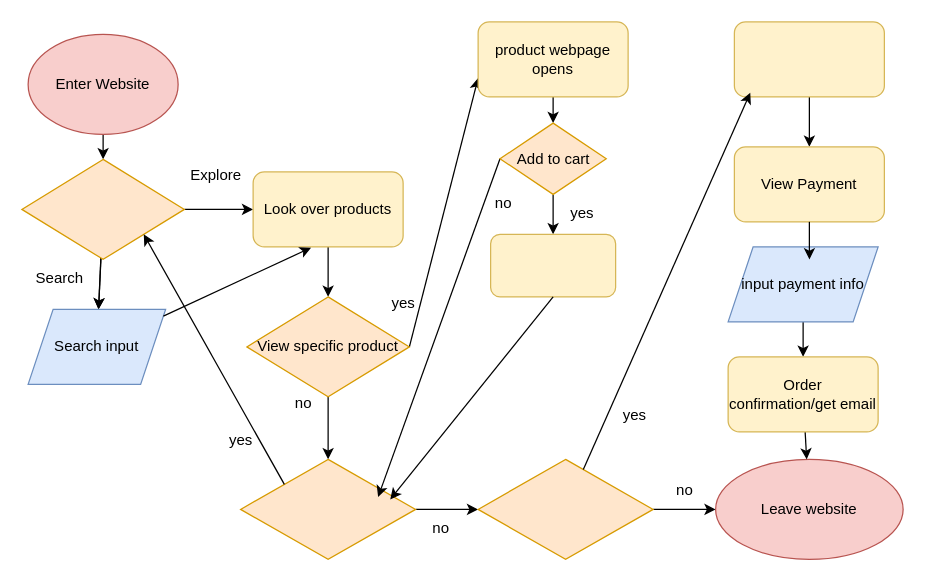
Some shapes in this 925 by 581 pixel diagram are drawn without their labels. The centre of each missing label's shape, as x and y in pixels:
Add to cart confirmation: the point at 552,265
Checkout?: the point at 565,508
Continue shopping?: the point at 327,508
Search/Explore products: the point at 102,208
View Cart: the point at 808,59
